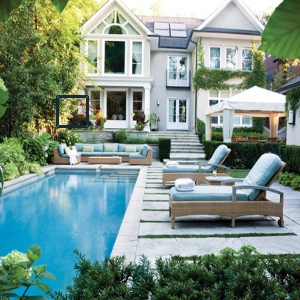square: (53, 93, 92, 129)
